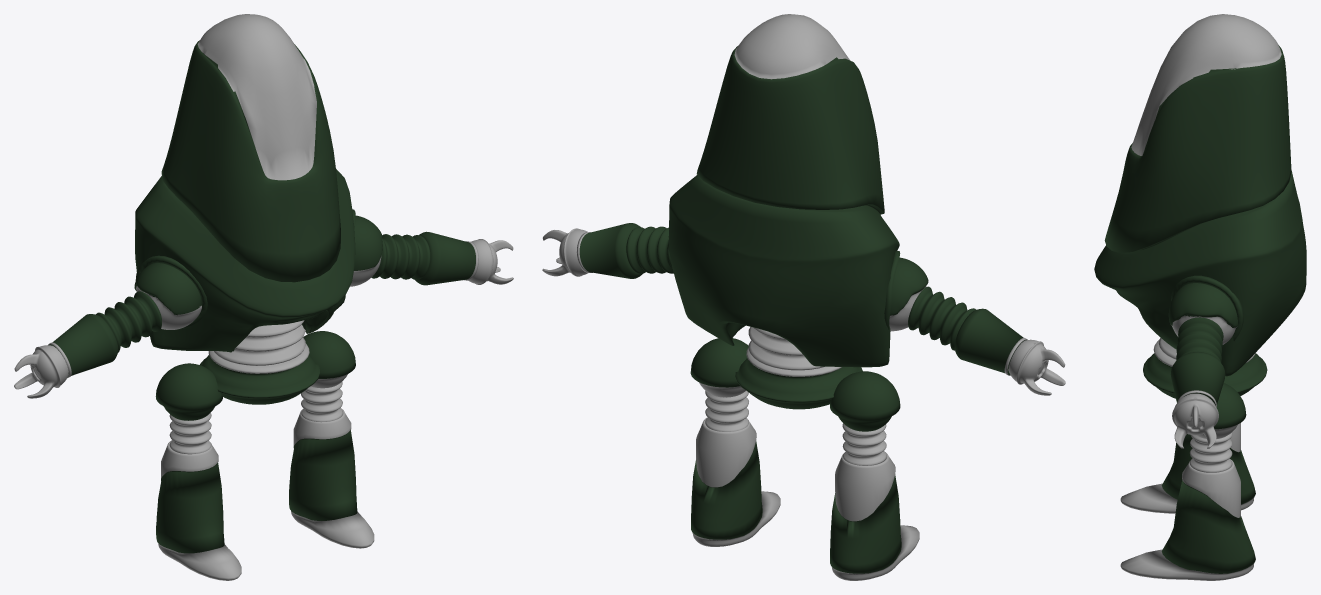
File: Highpoly Protectron.obj
3 renders of one model, left to right at view 1: azimuth 30°, elevation 25°; view 2: azimuth 150°, elevation 25°; view 3: azimuth 270°, elevation 25°, orthographic. The views are drawn at different scales.
Parts seen in each view (by area): view 1: Cylinder.007_Cylinder.009; view 2: Cylinder.007_Cylinder.009; view 3: Cylinder.007_Cylinder.009.
Boxes of the visible parts, x1,y1,x2,y2 form: Cylinder.007_Cylinder.009: (14,14,513,580); Cylinder.007_Cylinder.009: (542,14,1065,580); Cylinder.007_Cylinder.009: (1094,14,1306,580).
Size of the model in its own units: 8.26 by 8.07 by 3.
